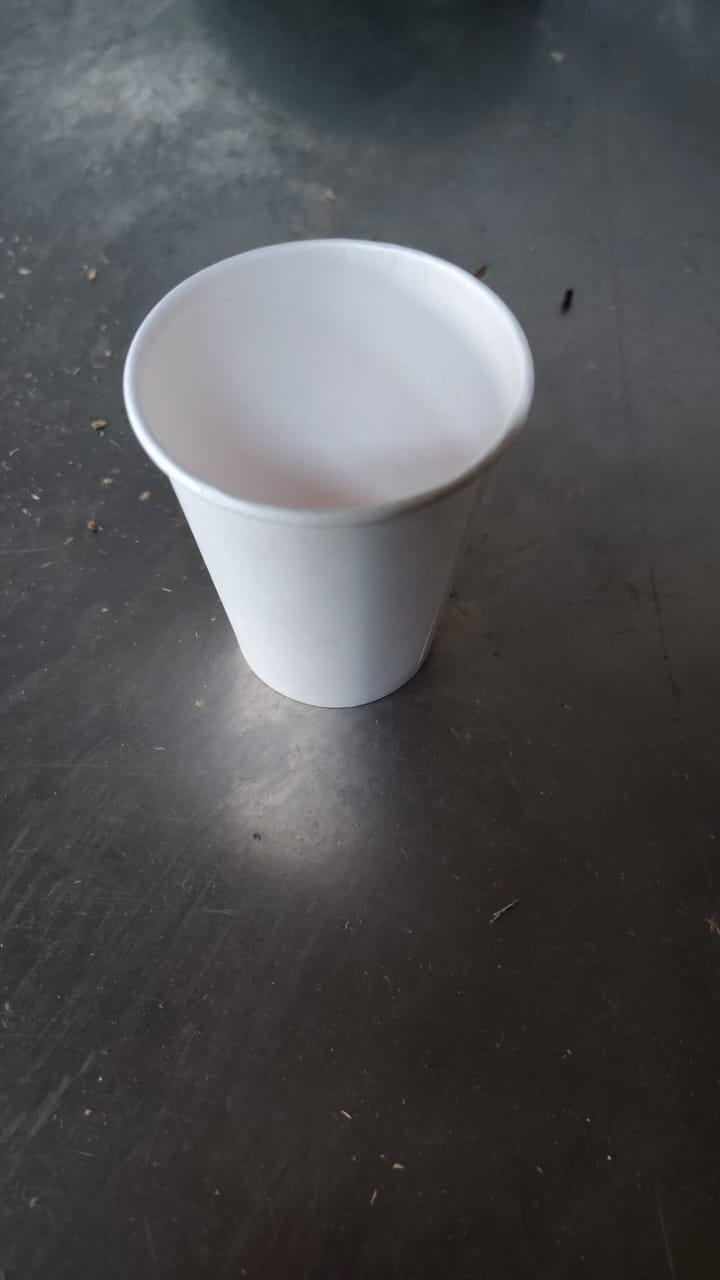Carton: (123, 239, 536, 709)
